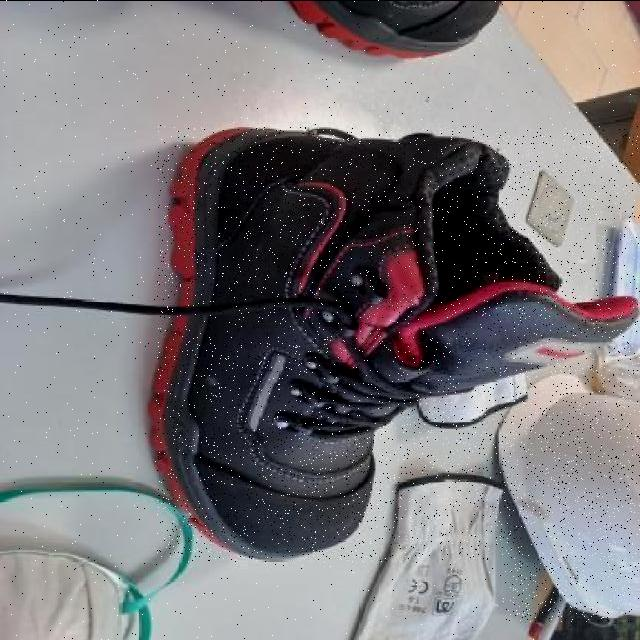Boots: (157, 125, 640, 561)
Glove: (357, 476, 509, 640)
Helmet: (500, 368, 640, 621)
